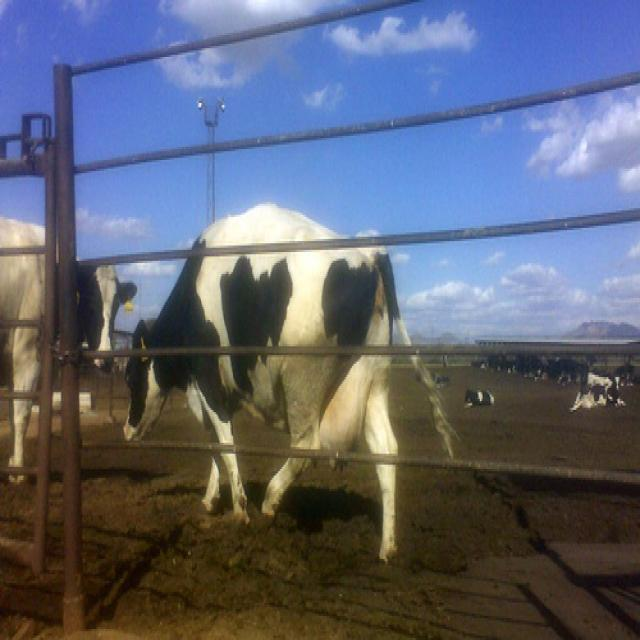cow: (119, 194, 461, 569), (1, 203, 141, 490), (564, 378, 626, 417), (461, 382, 500, 413)
